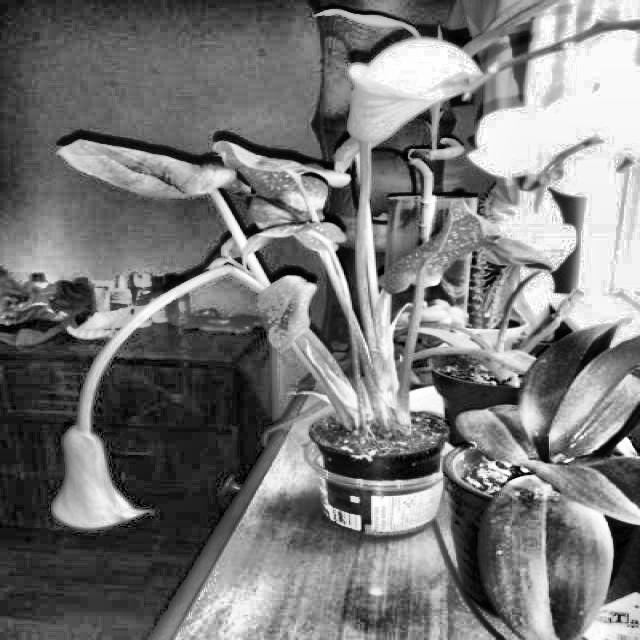plants: (52, 39, 450, 536), (34, 246, 270, 537)
